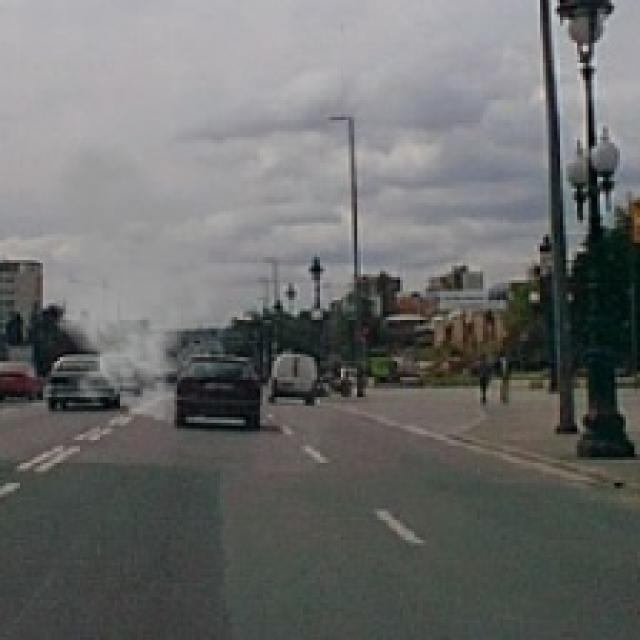Smoke: (23, 143, 226, 423)
